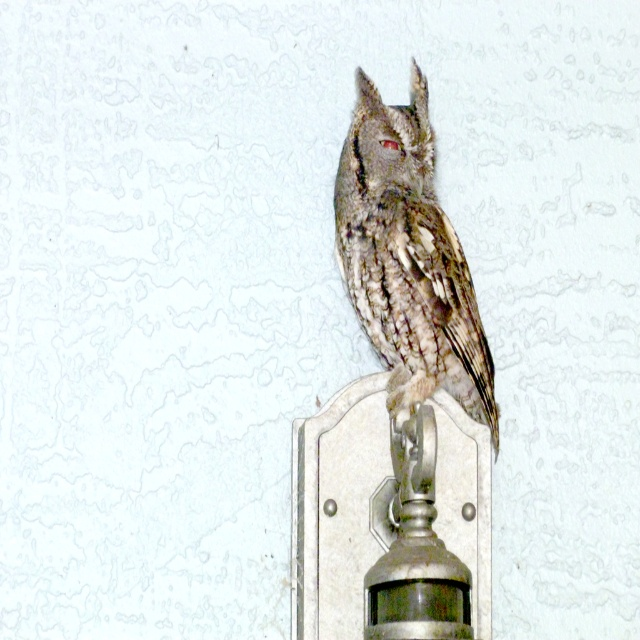Owl: (331, 57, 501, 466)
